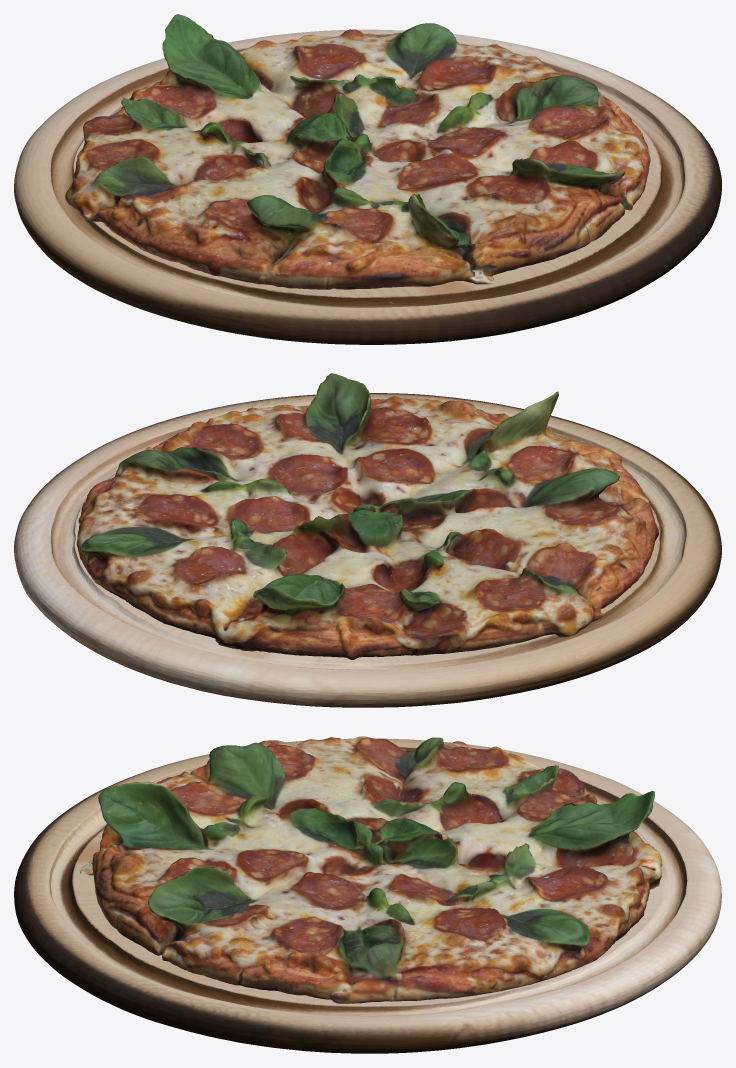
Rendered from chorizo1.glb.
3 views of the same model, one above another, from view 1: azimuth 30°, elevation 25°; view 2: azimuth 150°, elevation 25°; view 3: azimuth 270°, elevation 25° (orthographic).
Parts seen in each view (by area): view 1: 3DModel.001, world.004; view 2: 3DModel.001, world.004; view 3: 3DModel.001, world.004.
Boxes of the visible parts, <box> form: 3DModel.001: <box>65,14,650,289</box>; world.004: <box>14,29,721,344</box>; 3DModel.001: <box>76,373,658,659</box>; world.004: <box>14,393,721,707</box>; 3DModel.001: <box>80,736,662,1003</box>; world.004: <box>14,738,721,1053</box>.
Bounding box in the file's own units: 0.4784 × 0.0756 × 0.4784.
Materials: 2 (2 with a texture image).
